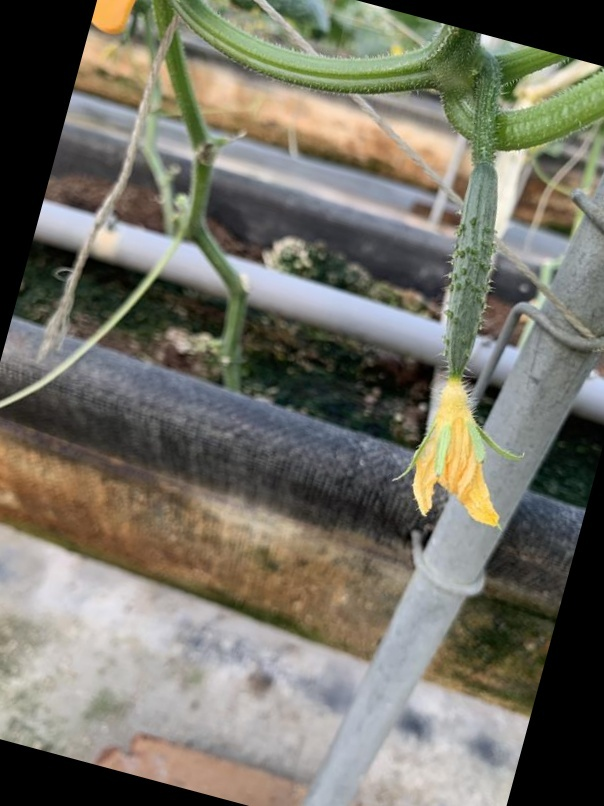bear: (381, 147, 536, 525)
